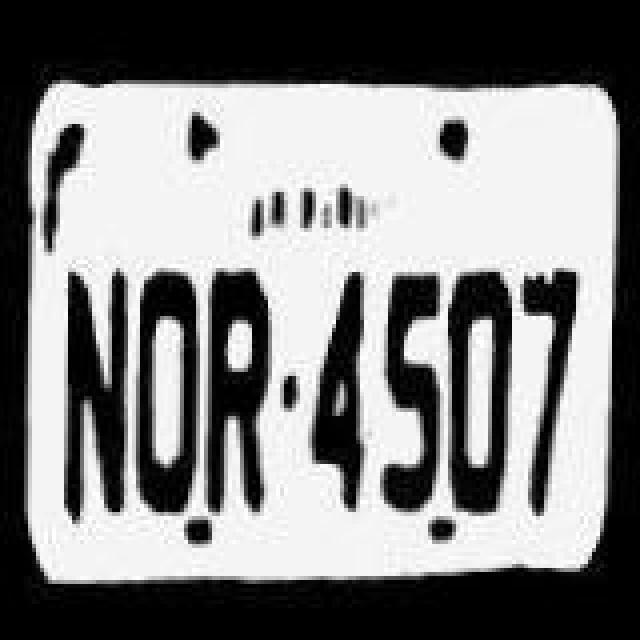4: (304, 272, 380, 512)
5: (372, 252, 448, 520)
7: (518, 246, 582, 530)
N: (52, 262, 136, 530)
O: (126, 268, 206, 512), (442, 254, 514, 518)
R: (200, 268, 284, 520)
